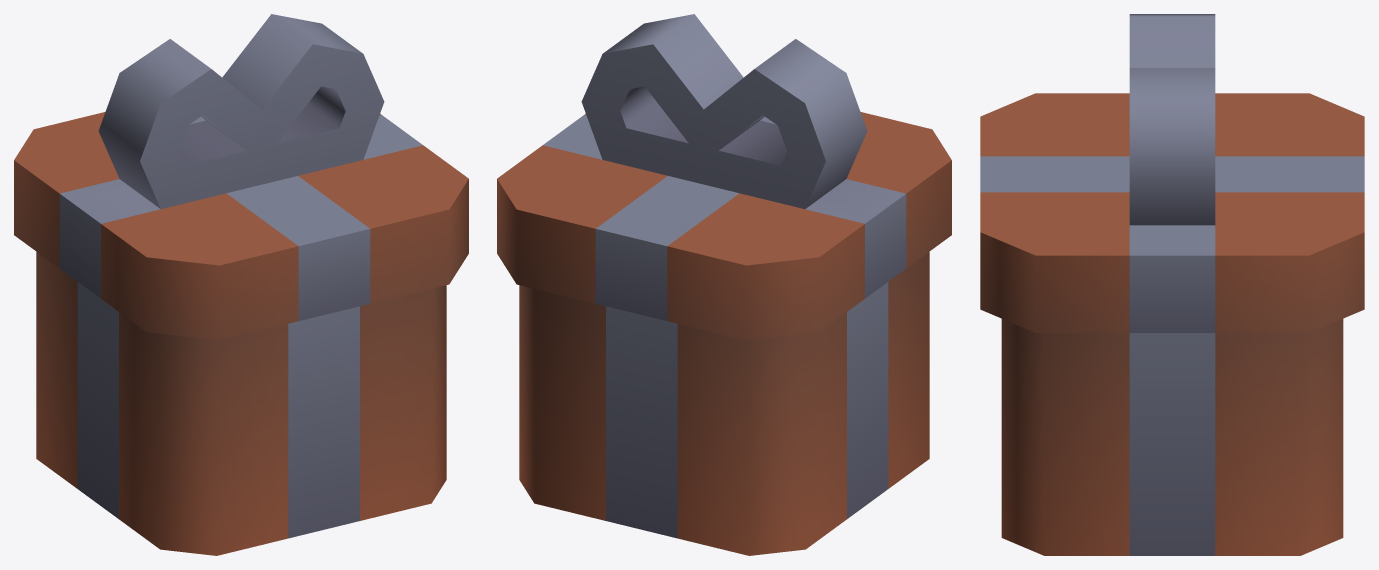
File: present-a-cube.glb
The picture shows the model from 3 angles, left to right: view 1: azimuth 30°, elevation 25°; view 2: azimuth 150°, elevation 25°; view 3: azimuth 270°, elevation 25°; orthographic projection. The views are drawn at different scales.
Parts seen in each view (by area): view 1: lid, present-a-cube; view 2: lid, present-a-cube; view 3: lid, present-a-cube.
Part boxes in pixels (<box>): lid: <box>14,14,468,340</box>; present-a-cube: <box>36,252,446,555</box>; lid: <box>497,14,951,340</box>; present-a-cube: <box>519,252,929,555</box>; lid: <box>980,14,1364,332</box>; present-a-cube: <box>1001,319,1343,555</box>.
Size of the model in its own units: 0.45 by 0.5707 by 0.45.
1 material, 1 textured.
